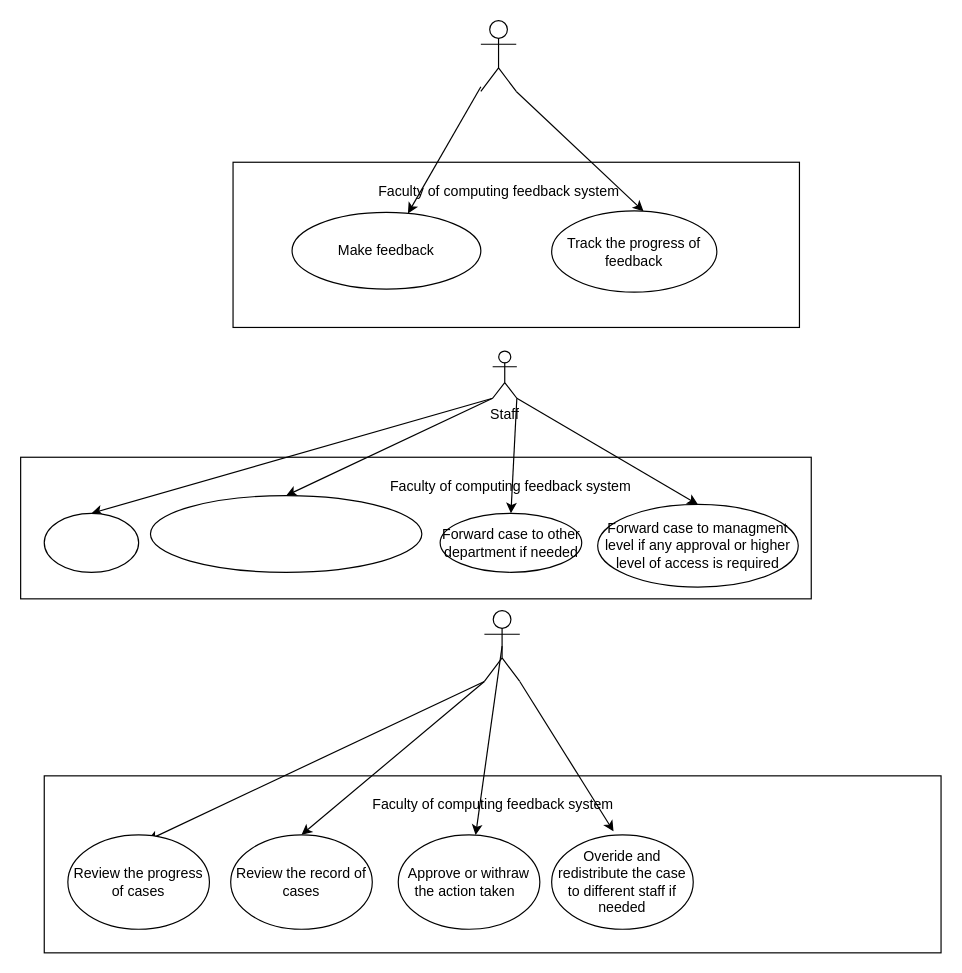
The diagram is 962 pixels wide and 973 high, and some of its shapes have lost their labels. Here are the shapes that lost their labels. From the top down, the centre of each, then its label:
the point at 498,55: Public
the point at 91,542: Receive feedback or complain
the point at 285,533: Update the status the each case (action taken/problem solved? solution etc)
the point at 501,645: management level（dean, manager etc)
